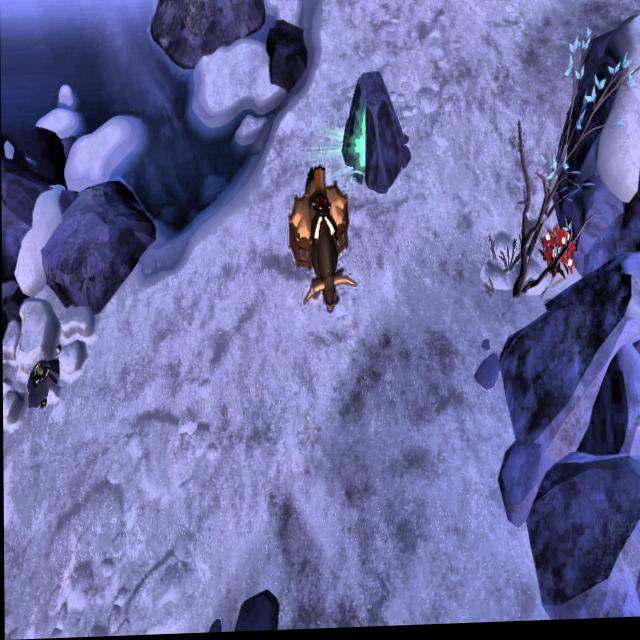fiber_t5: (541, 226, 576, 283)
